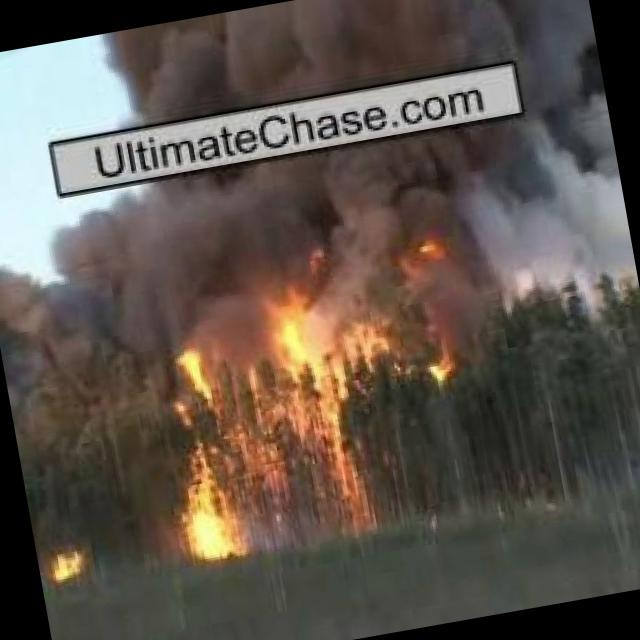Fire: (41, 104, 636, 368), (100, 0, 597, 130), (154, 310, 371, 565), (328, 228, 470, 404), (44, 538, 96, 590)
